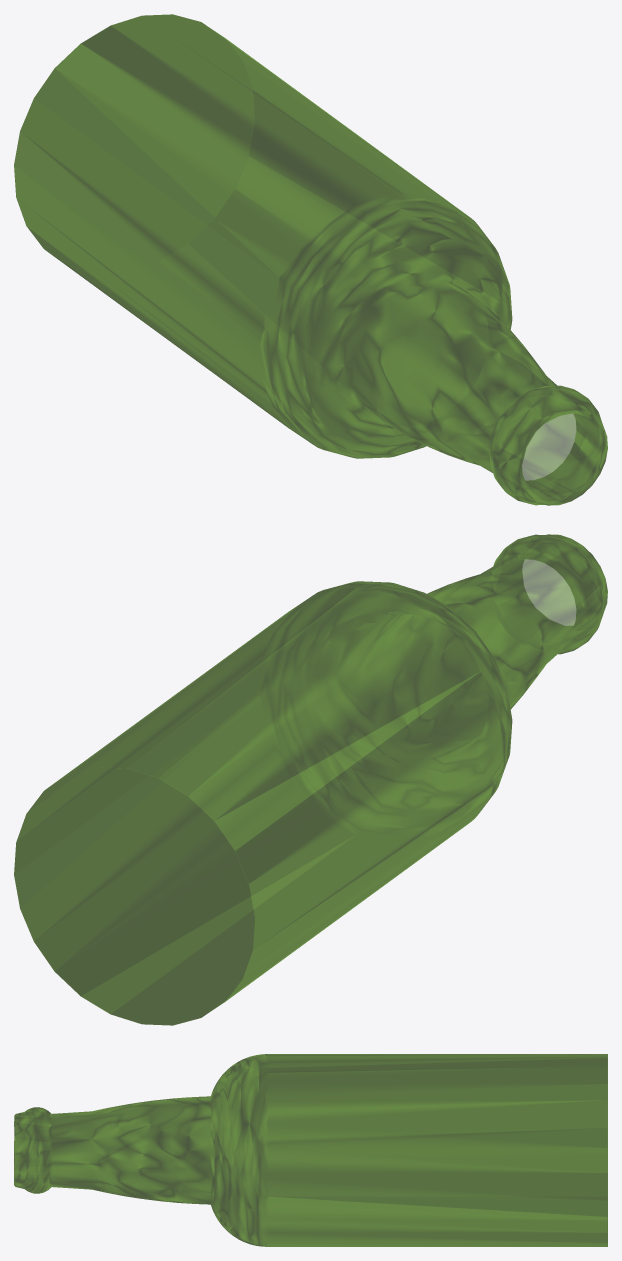
The model's file is model_align.obj.
The picture shows the model from 3 angles, top to bottom: view 1: azimuth 30°, elevation 25°; view 2: azimuth 150°, elevation 25°; view 3: azimuth 270°, elevation 25°; orthographic projection. The views are drawn at different scales.
Size of the model in its own units: 0.0799 by 0.0799 by 0.2463.
